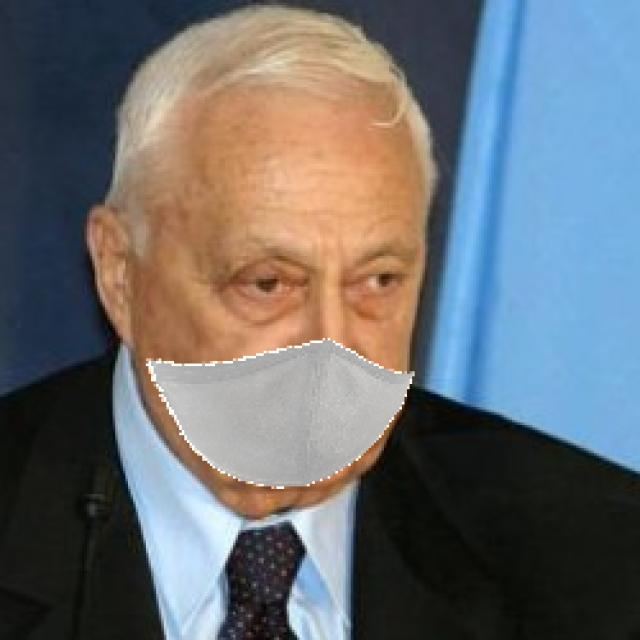mask: (132, 306, 428, 515)
